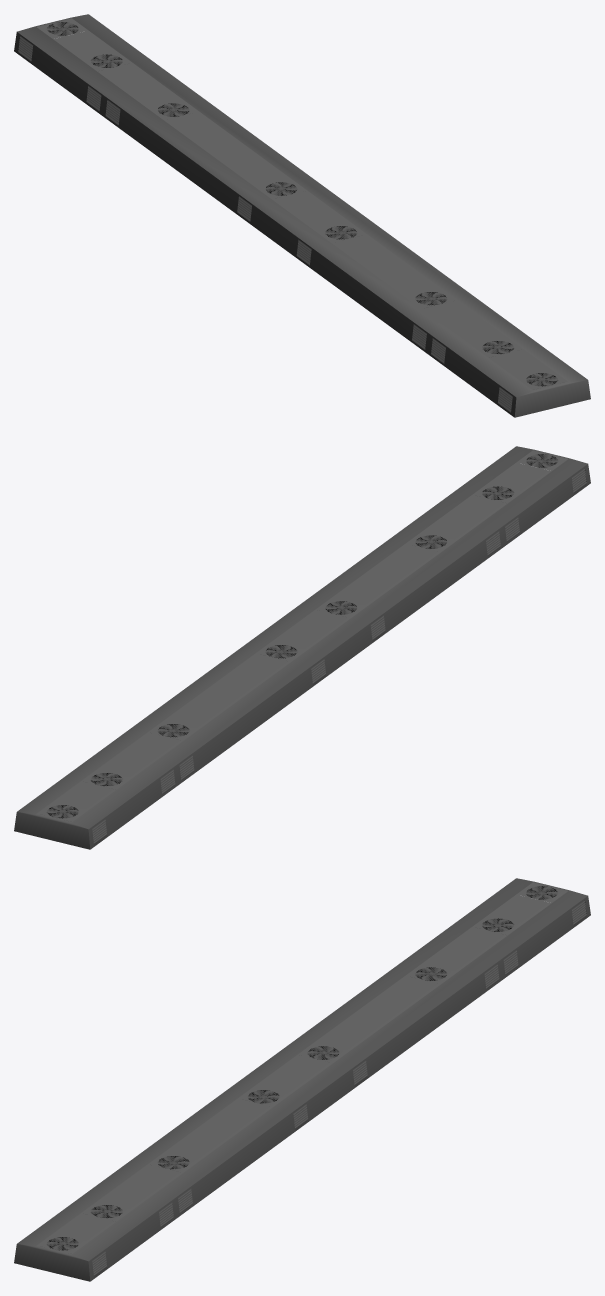
The model's file is HANKYU8200_PANTA02.glb.
3 views of the same model, one above another, from view 1: azimuth 30°, elevation 25°; view 2: azimuth 150°, elevation 25°; view 3: azimuth 330°, elevation 25° (orthographic).
Parts seen in each view (by area): view 1: FRAME_ROOT; view 2: FRAME_ROOT; view 3: FRAME_ROOT.
Part boxes in pixels (x1,y1,x2,y2): FRAME_ROOT: (14,14,590,417); FRAME_ROOT: (14,446,590,849); FRAME_ROOT: (14,878,590,1281).
Size of the model in its own units: 3 by 0.7849 by 34.11.
2 materials, 2 textured.
